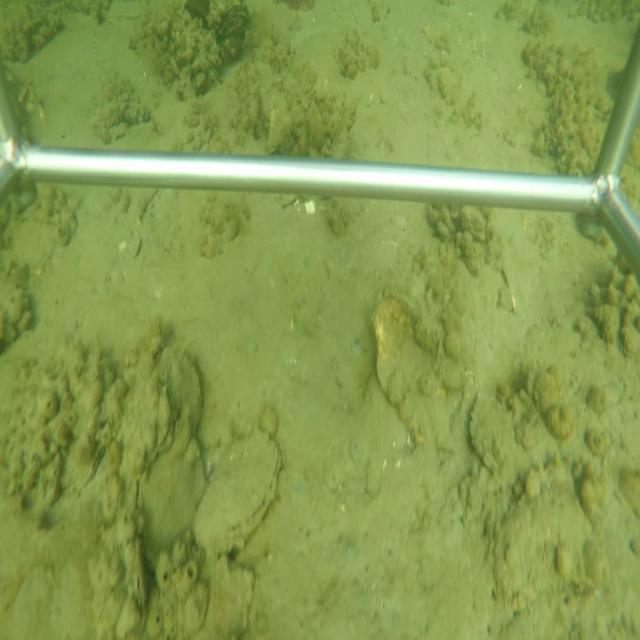Oyster-Closed: (192, 425, 282, 560), (76, 440, 109, 494), (324, 119, 350, 156)
Oyster-Indeterminate: (494, 474, 611, 613), (141, 421, 208, 548), (466, 391, 560, 480), (142, 340, 200, 479), (203, 556, 257, 634)
